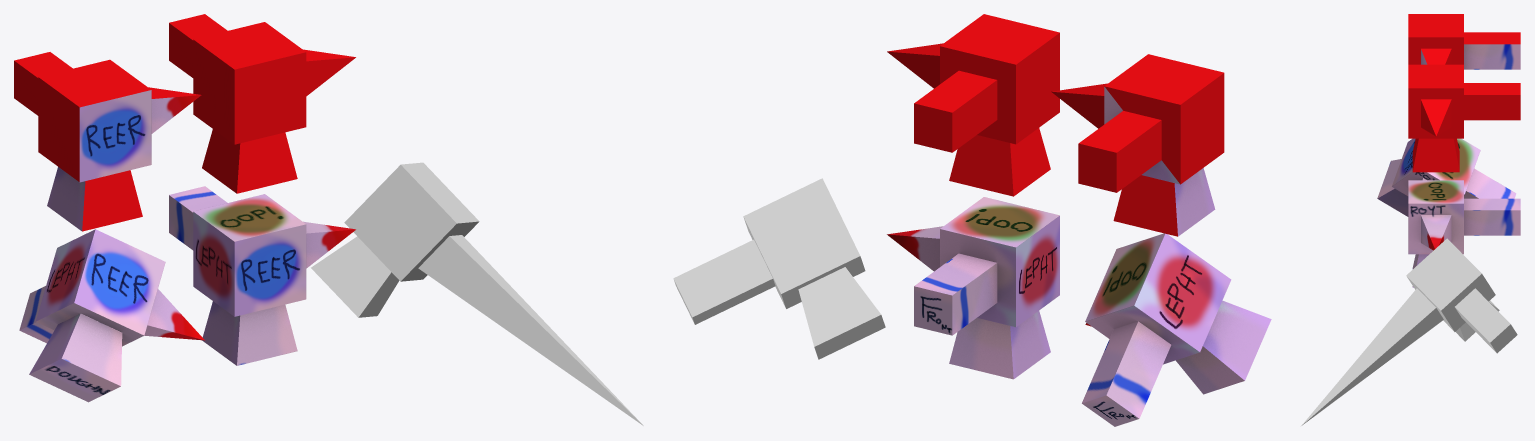
The model's file is testcubes.glb.
3 views of the same model, side by side, from view 1: azimuth 30°, elevation 25°; view 2: azimuth 150°, elevation 25°; view 3: azimuth 270°, elevation 25° (orthographic). The views are drawn at different scales.
Parts seen in each view (by area): view 1: testcube_no_mat, testcube_2_mats, testcube_default, testcube_red_no_texture, testcube_rotated; view 2: testcube_rotated, testcube_2_mats, testcube_default, testcube_red_no_texture, testcube_no_mat; view 3: testcube_no_mat, testcube_red_no_texture, testcube_default, testcube_2_mats, testcube_rotated.
Part boxes in pixels (box(x1,y1,x2,y2)): testcube_no_mat: box(311, 162, 643, 425); testcube_2_mats: box(14, 52, 201, 231); testcube_default: box(169, 186, 355, 365); testcube_red_no_texture: box(169, 14, 355, 193); testcube_rotated: box(19, 229, 204, 402); testcube_rotated: box(1082, 233, 1271, 426); testcube_2_mats: box(1051, 54, 1224, 236); testcube_default: box(887, 197, 1059, 379); testcube_red_no_texture: box(887, 14, 1059, 196); testcube_no_mat: box(673, 178, 885, 359); testcube_no_mat: box(1300, 238, 1517, 426); testcube_red_no_texture: box(1408, 64, 1520, 172); testcube_default: box(1408, 180, 1520, 287); testcube_2_mats: box(1408, 14, 1520, 69); testcube_rotated: box(1377, 138, 1516, 216).
Bounding box in the file's own units: 7.24 × 5.05 × 3.96.
Materials: 2 (1 with a texture image).
